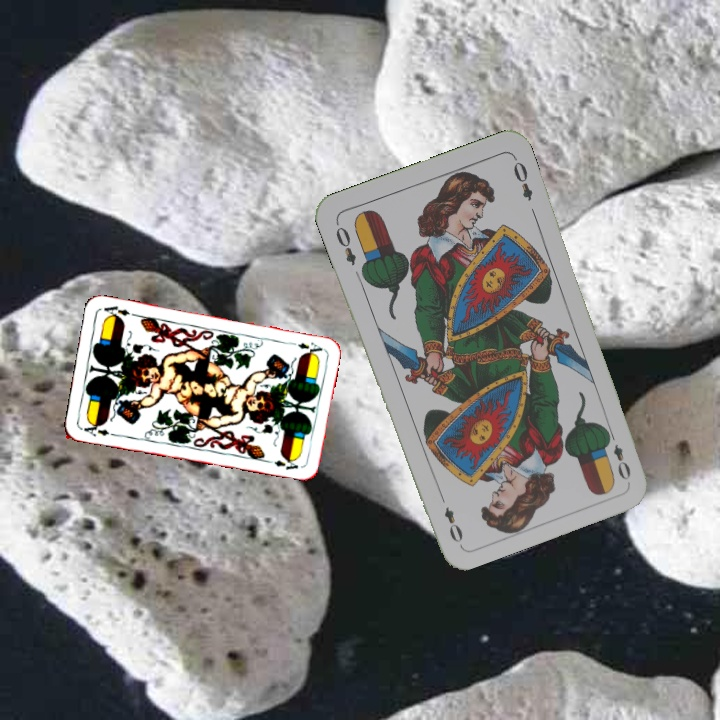EA: (78, 418, 119, 439), (285, 337, 325, 355)
EO: (602, 426, 634, 483), (331, 218, 359, 268)
